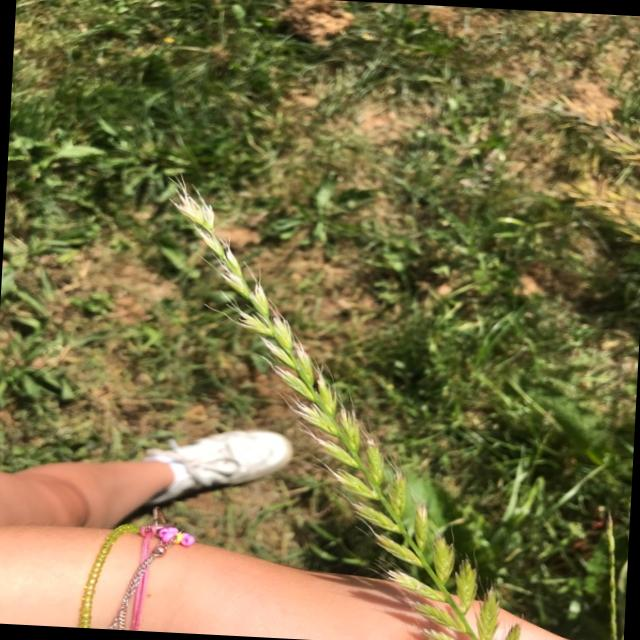Lolium: (138, 172, 543, 640)
